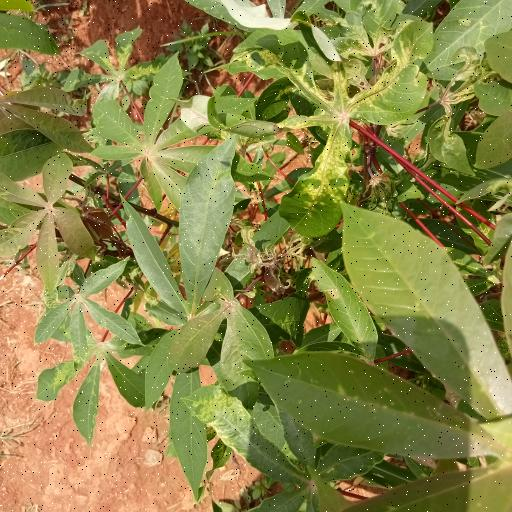Cassava_Brown_Leaf_Spot: (248, 0, 428, 237)
Cassava_Healthy: (124, 138, 239, 499), (95, 52, 234, 216)
